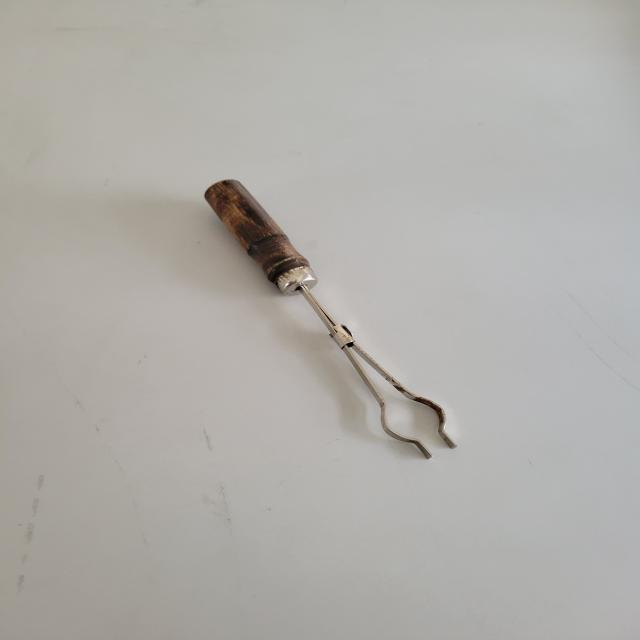TestTube_Holder: (170, 123, 497, 498)
